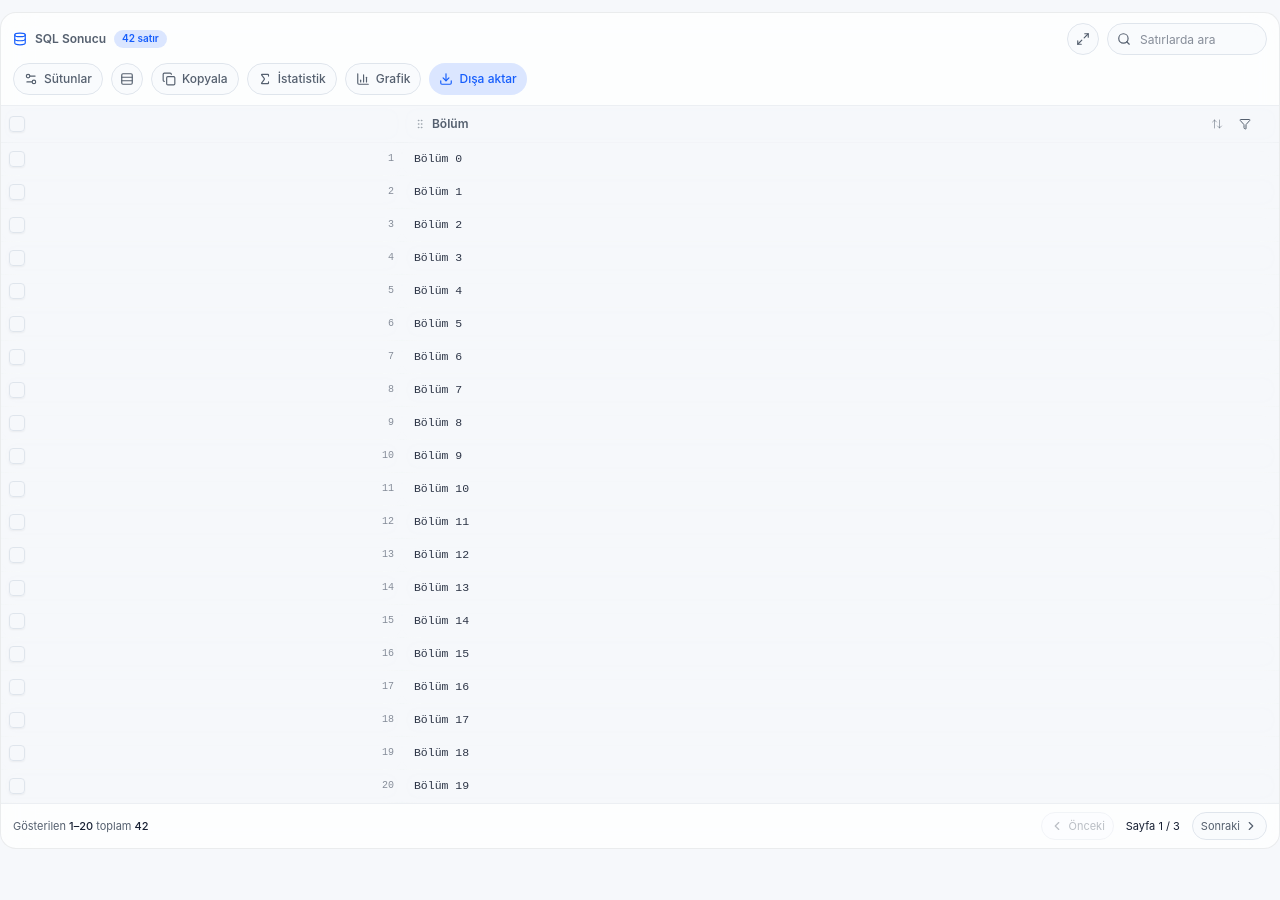
Test: SqlResultsTable — result-size safety › Önceki, Sonraki ve Sayfa kontrolleriyle güvenli sayfalar arasında gezinir
expect the text "Bölüm 0" is shown: met, box [414,152,462,165]
expect the text "Sayfa 1 / 3" is shown: met, box [1118,818,1188,834]
Click the button with aria-label "Sonraki sayfa": (1229,826) [1192,812,1267,840]
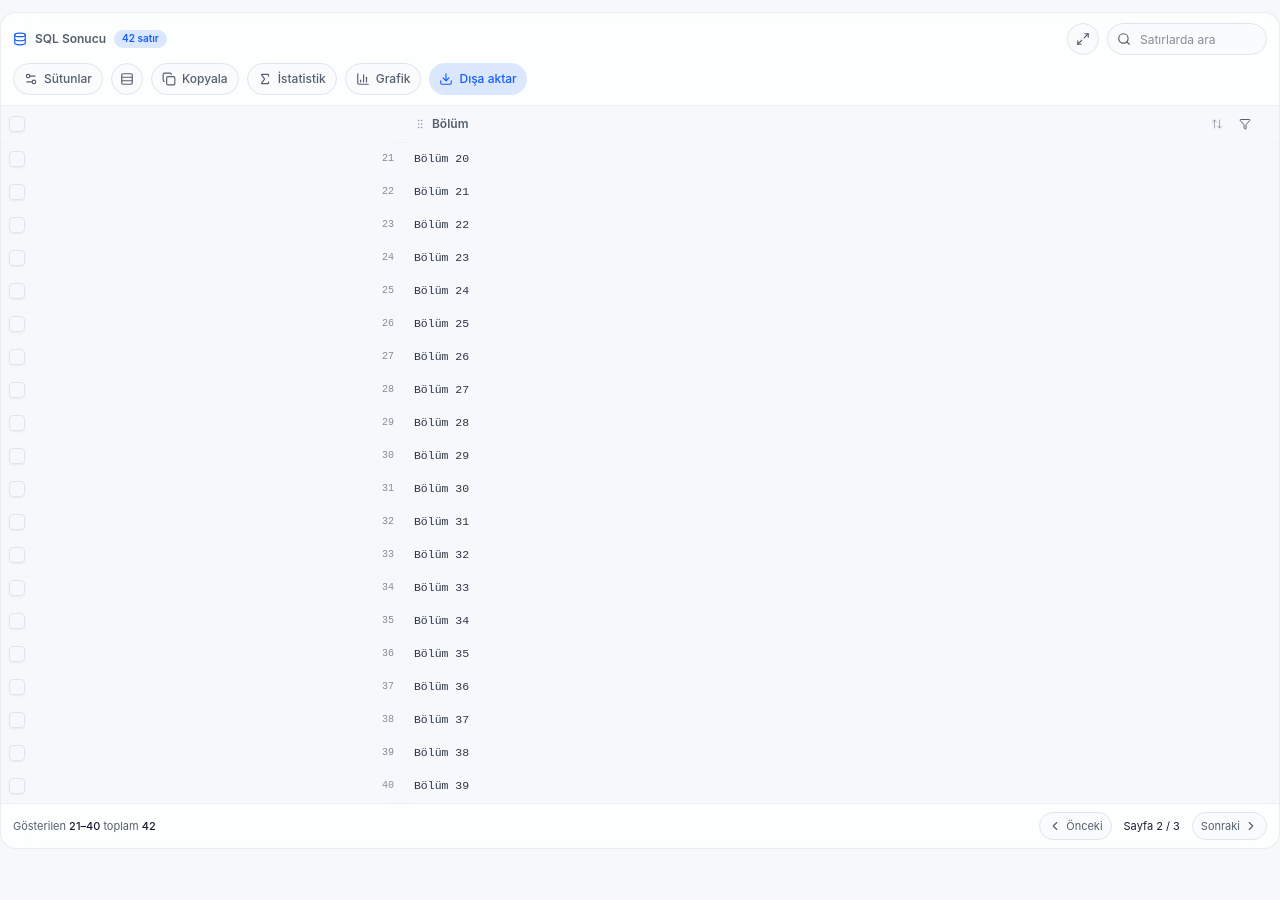
expect the button with aria-label "Önceki sayfa" is shown: met, box [1039,812,1112,840]
expect the button "Bölüm 0" is gone: met
expect the text "Bölüm 20" is shown: met, box [414,152,469,165]
